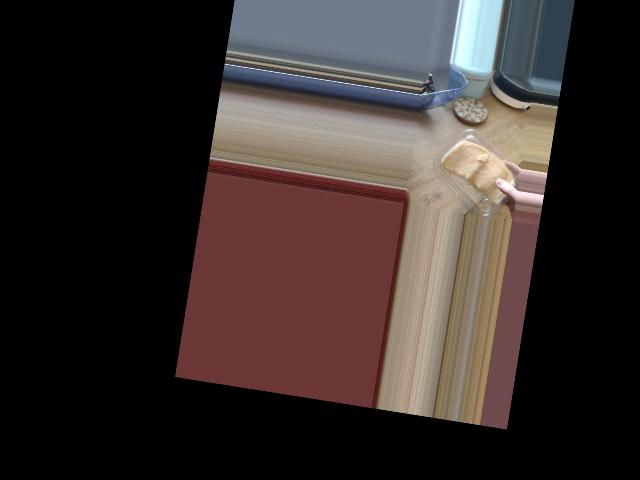cheese: (417, 115, 520, 218)
